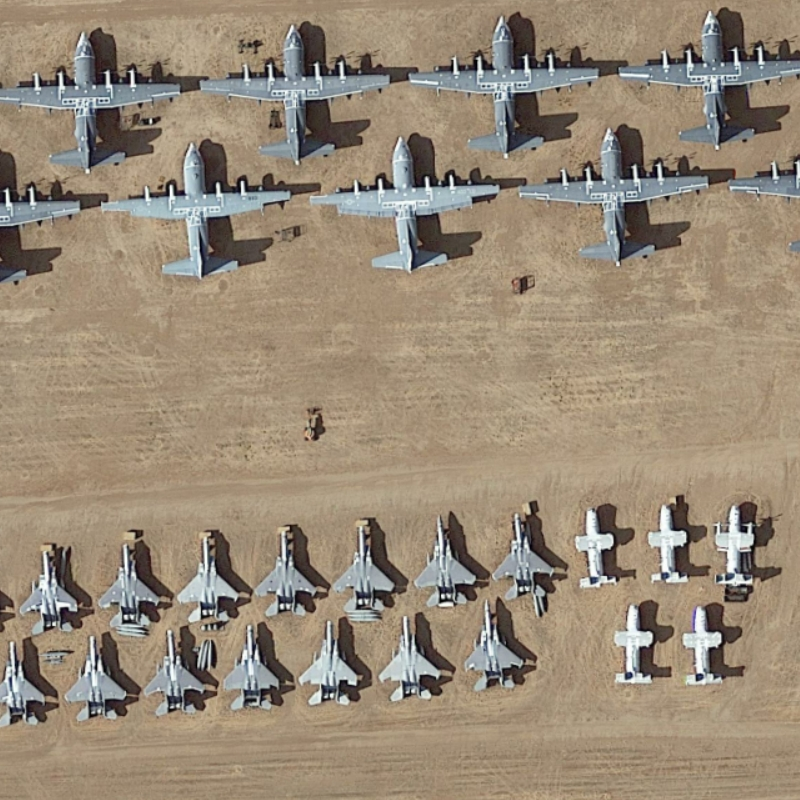A13: (10, 543, 97, 643), (93, 531, 166, 648), (326, 512, 401, 624), (250, 522, 330, 625), (491, 500, 565, 611), (61, 629, 137, 732), (293, 611, 368, 715), (456, 597, 535, 695), (175, 528, 248, 630), (219, 619, 293, 717), (411, 508, 482, 610), (377, 615, 452, 707), (143, 628, 215, 722), (2, 636, 54, 736)
A2: (514, 125, 720, 273), (98, 142, 295, 294), (198, 19, 397, 166), (409, 13, 598, 159), (1, 25, 186, 172), (304, 139, 505, 274), (618, 5, 800, 151)
